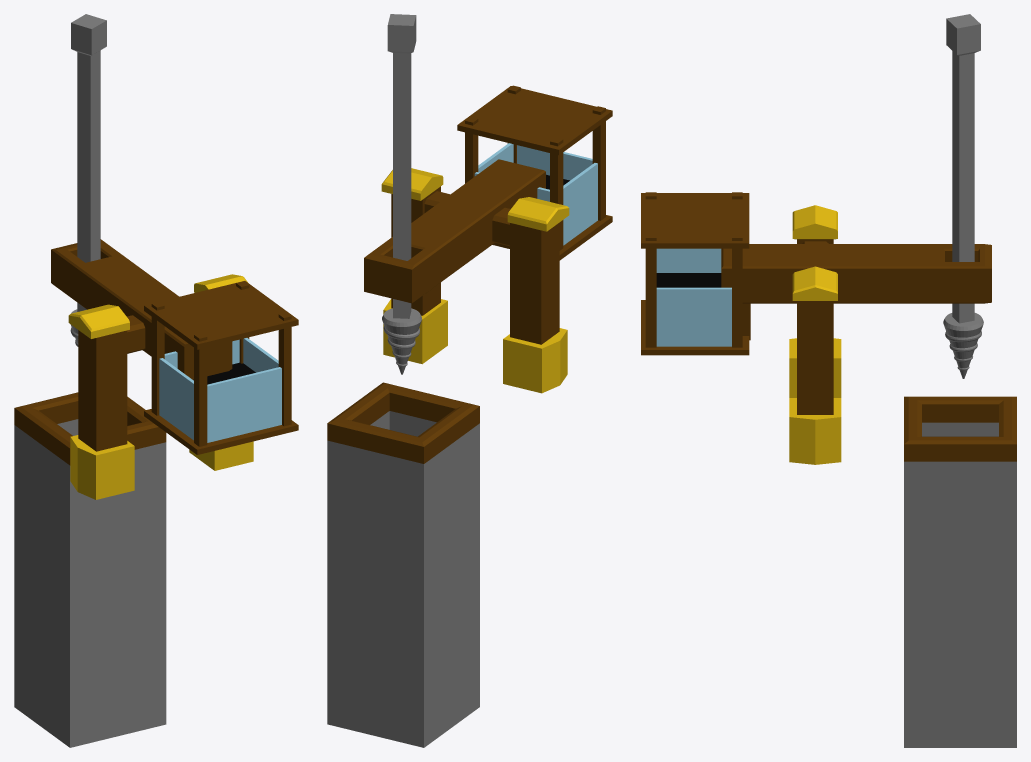
The model's file is Drill.fbx.
3 renders of one model, left to right at view 1: azimuth 30°, elevation 25°; view 2: azimuth 150°, elevation 25°; view 3: azimuth 270°, elevation 25°, orthographic.
Parts seen in each view (by area): view 1: Cube, Cube.001; view 2: Cube, Cube.001; view 3: Cube, Cube.001.
Boxes of the visible parts, x1,y1,x2,y2 form: Cube: (14,239,298,747); Cube.001: (70,14,106,346); Cube: (327,85,612,747); Cube.001: (382,14,421,374); Cube: (641,192,1016,747); Cube.001: (943,14,983,378).
Size of the model in its own units: 137 by 540 by 261.
